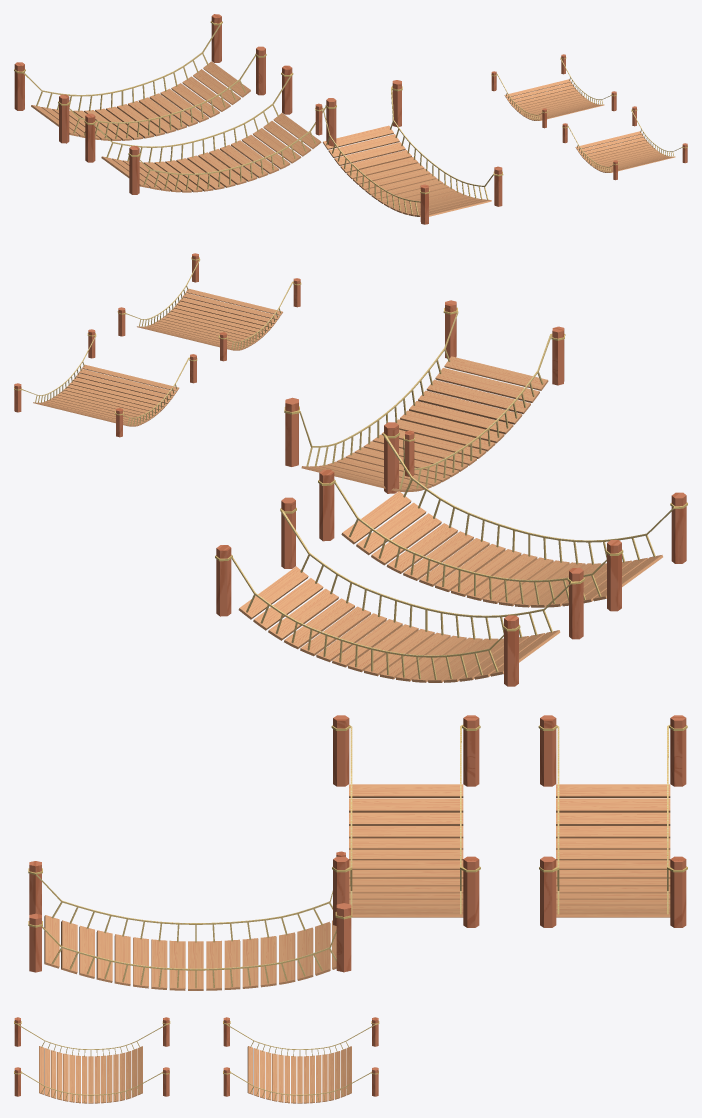
The model's file is TTT_Bridges.dae.
The picture shows the model from 3 angles, top to bottom: view 1: azimuth 30°, elevation 25°; view 2: azimuth 150°, elevation 25°; view 3: azimuth 270°, elevation 25°; orthographic projection. The views are drawn at different scales.
Parts seen in each view (by area): view 1: Cube.008_Cube.009, Cube.008_Cube.005, Cube.008_Cube.008, Cube.008_Cube.006, Cube.008_Cube.007; view 2: Cube.008_Cube.005, Cube.008_Cube.009, Cube.008_Cube.008, Cube.008_Cube.006, Cube.008_Cube.007; view 3: Cube.008_Cube.005, Cube.008_Cube.009, Cube.008_Cube.008, Cube.008_Cube.006, Cube.008_Cube.007.
Part boxes in pixels (x1,y1,x2,y2): Cube.008_Cube.009: (84, 65, 336, 194); Cube.008_Cube.005: (14, 14, 266, 143); Cube.008_Cube.008: (315, 80, 503, 224); Cube.008_Cube.006: (491, 54, 616, 128); Cube.008_Cube.007: (562, 106, 687, 180); Cube.008_Cube.005: (215, 497, 584, 686); Cube.008_Cube.009: (318, 422, 687, 611); Cube.008_Cube.008: (284, 300, 565, 492); Cube.008_Cube.006: (14, 329, 197, 437); Cube.008_Cube.007: (117, 253, 301, 361); Cube.008_Cube.005: (538, 715, 687, 927); Cube.008_Cube.009: (331, 715, 480, 927); Cube.008_Cube.008: (28, 851, 352, 990); Cube.008_Cube.006: (223, 1017, 379, 1103); Cube.008_Cube.007: (14, 1017, 170, 1103).
Bounding box in the file's own units: 13.74 × 12.17 × 1.93.
Materials: 1 (1 with a texture image).
